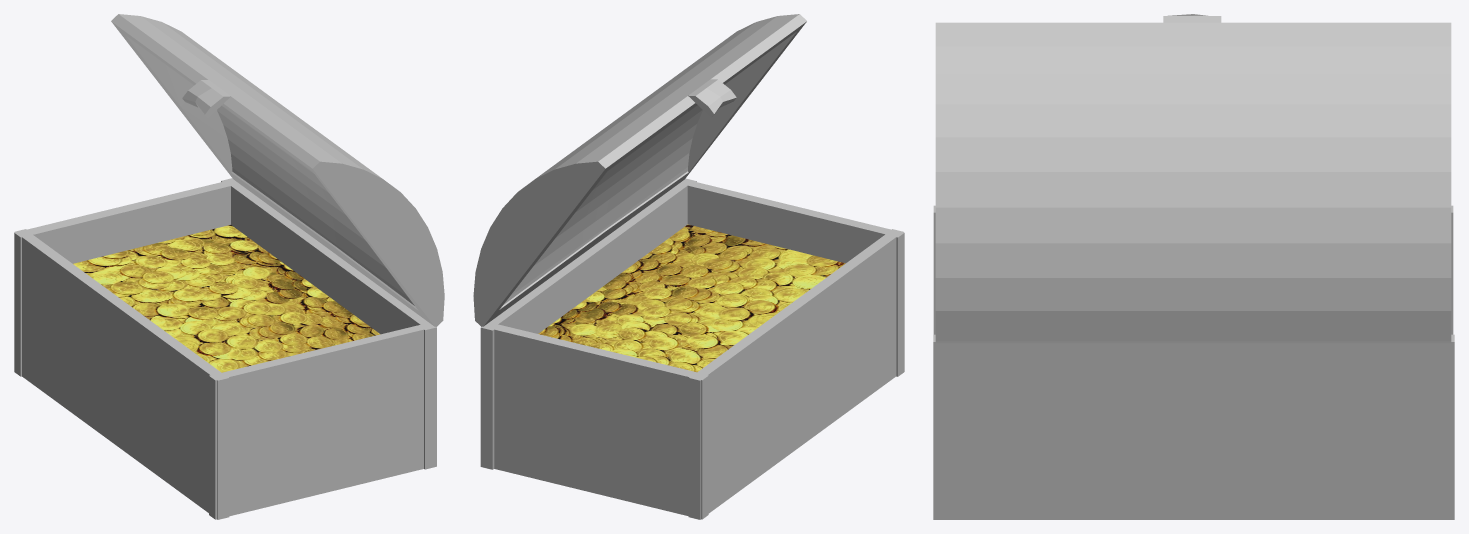
3 renders of one model, left to right at view 1: azimuth 30°, elevation 25°; view 2: azimuth 150°, elevation 25°; view 3: azimuth 270°, elevation 25°, orthographic. The views are drawn at different scales.
Visible parts, largest first — view 1: chest, lid_chest, gold; view 2: chest, lid_chest, gold; view 3: lid_chest, chest.
Boxes of the visible parts, left/top/right/bottom form: chest: left=14, top=178, right=436, bottom=519; lid_chest: left=111, top=14, right=444, bottom=326; gold: left=73, top=225, right=380, bottom=372; chest: left=480, top=178, right=904, bottom=519; lid_chest: left=473, top=14, right=806, bottom=326; gold: left=538, top=224, right=845, bottom=372; lid_chest: left=935, top=14, right=1451, bottom=343; chest: left=933, top=205, right=1454, bottom=519.
Bounding box in the file's own units: 64.54 × 89.86 × 99.49.
